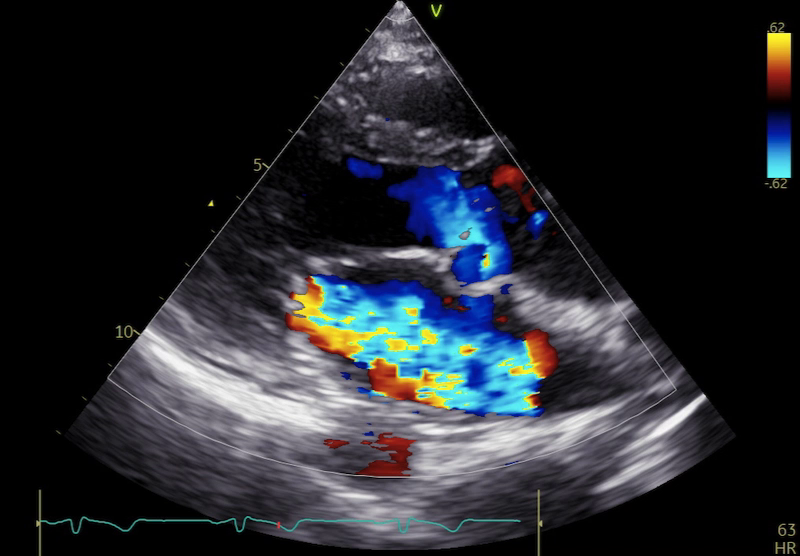MR: (309, 241, 398, 334)
